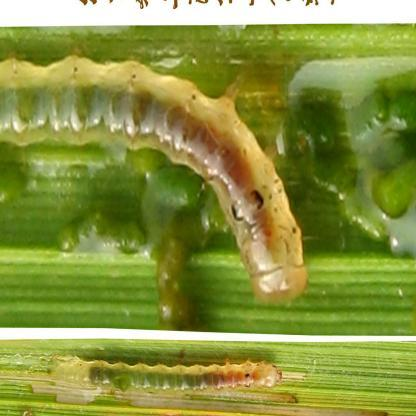leaf-folder: (0, 39, 314, 309), (48, 345, 304, 401)
